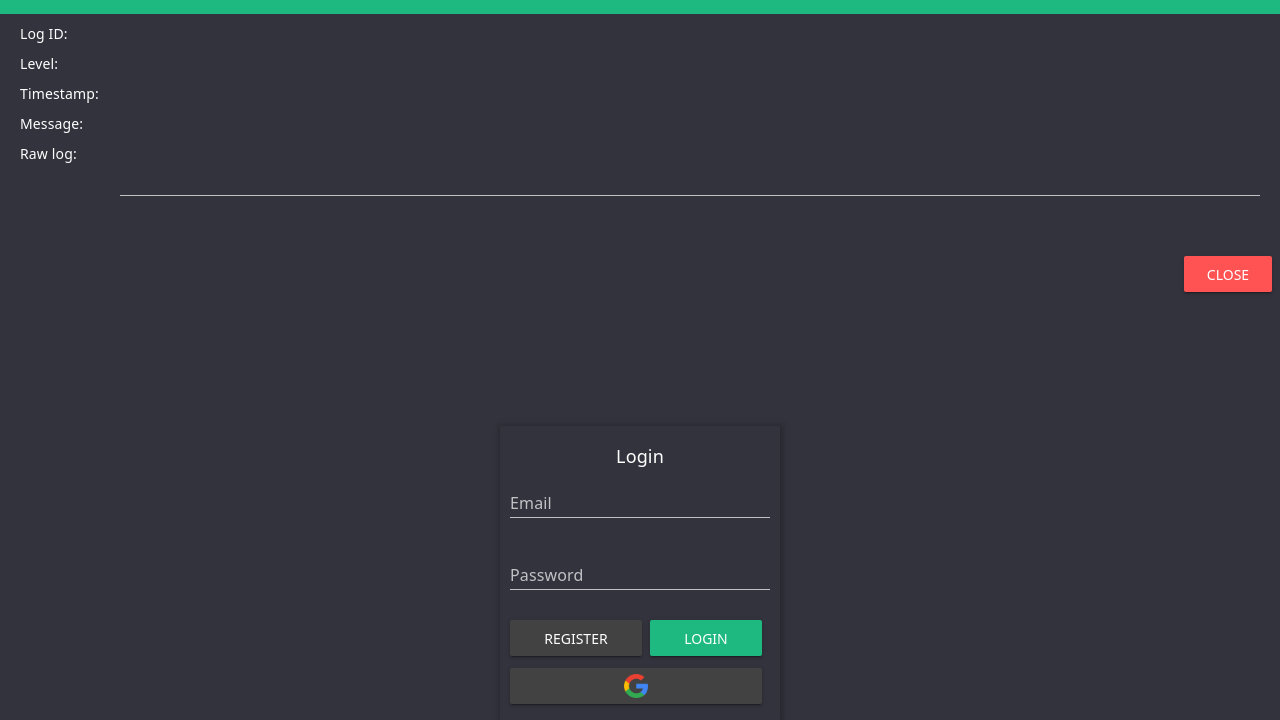
Test: Login tests › should show error when failed
The image size is (1280, 720).
(page scrolled)
Type "e2e-test@email.com" into the field with test id "email" at (640, 502), box [510,486,770,518]
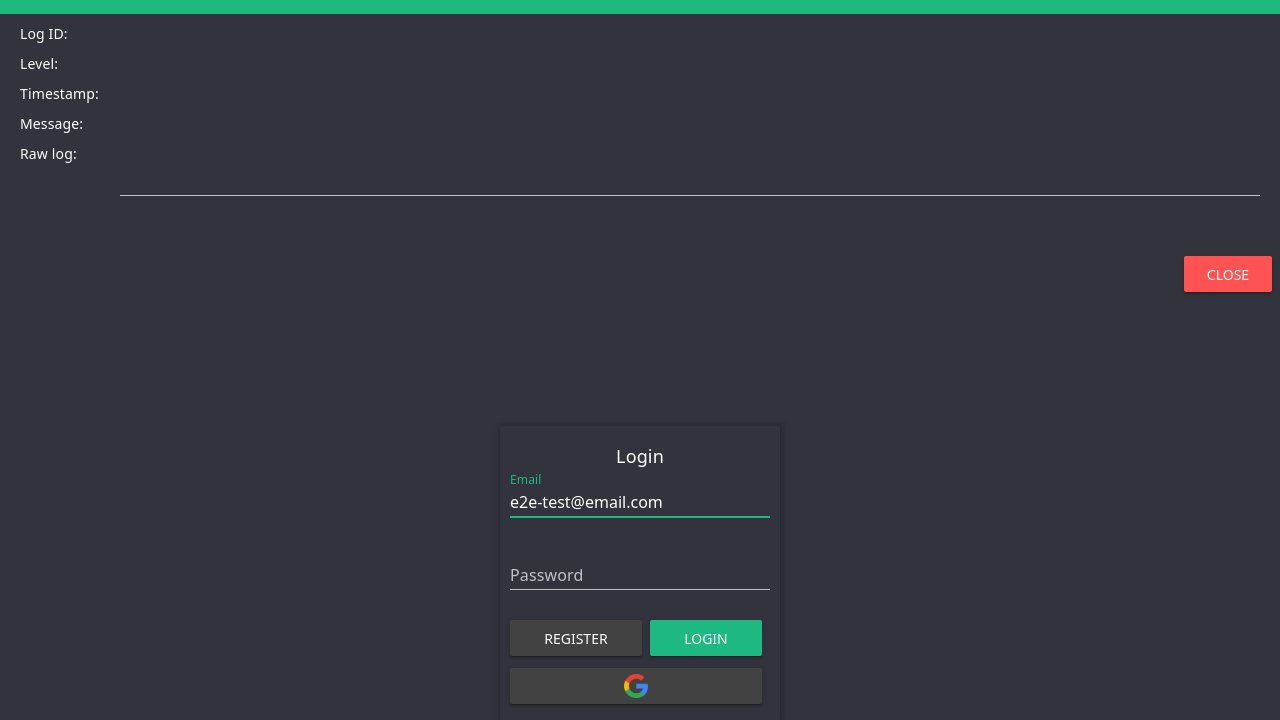
Type "E2EincorrectPassword" into the password field with test id "password" at (640, 574), box [510,558,770,590]
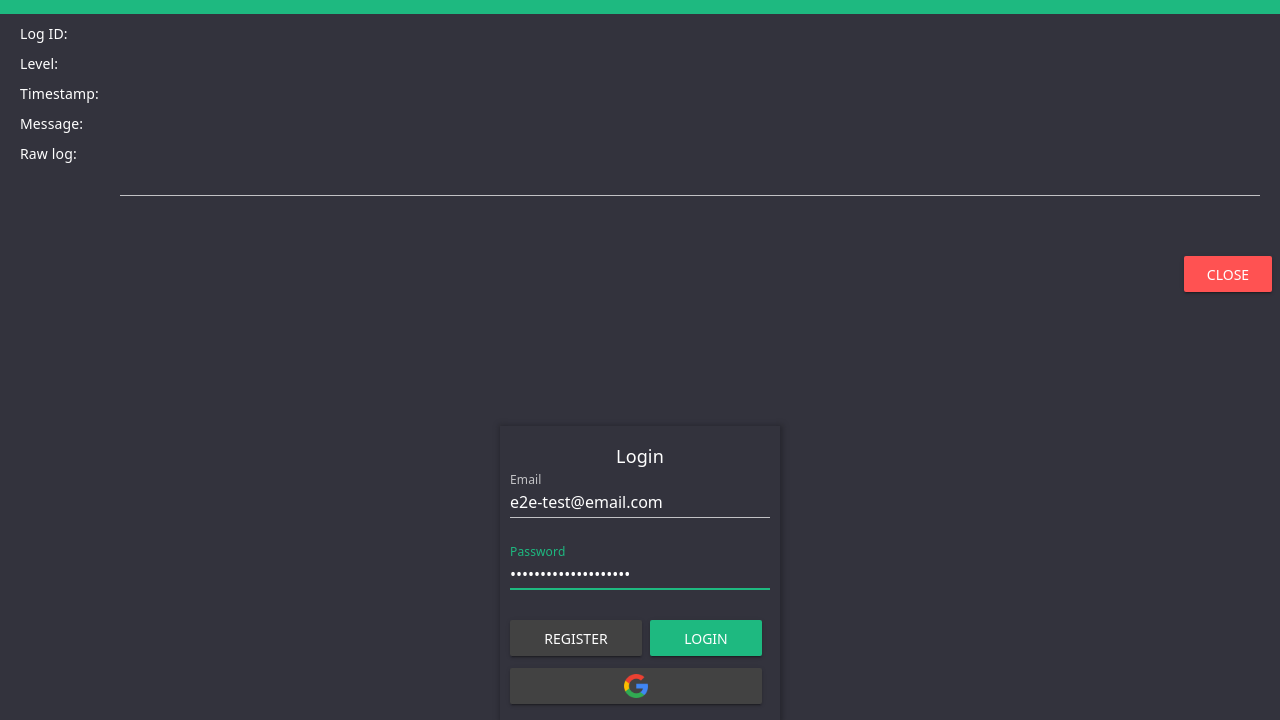
Click the button with test id "loginBtn" at (706, 638), box [650,620,762,656]
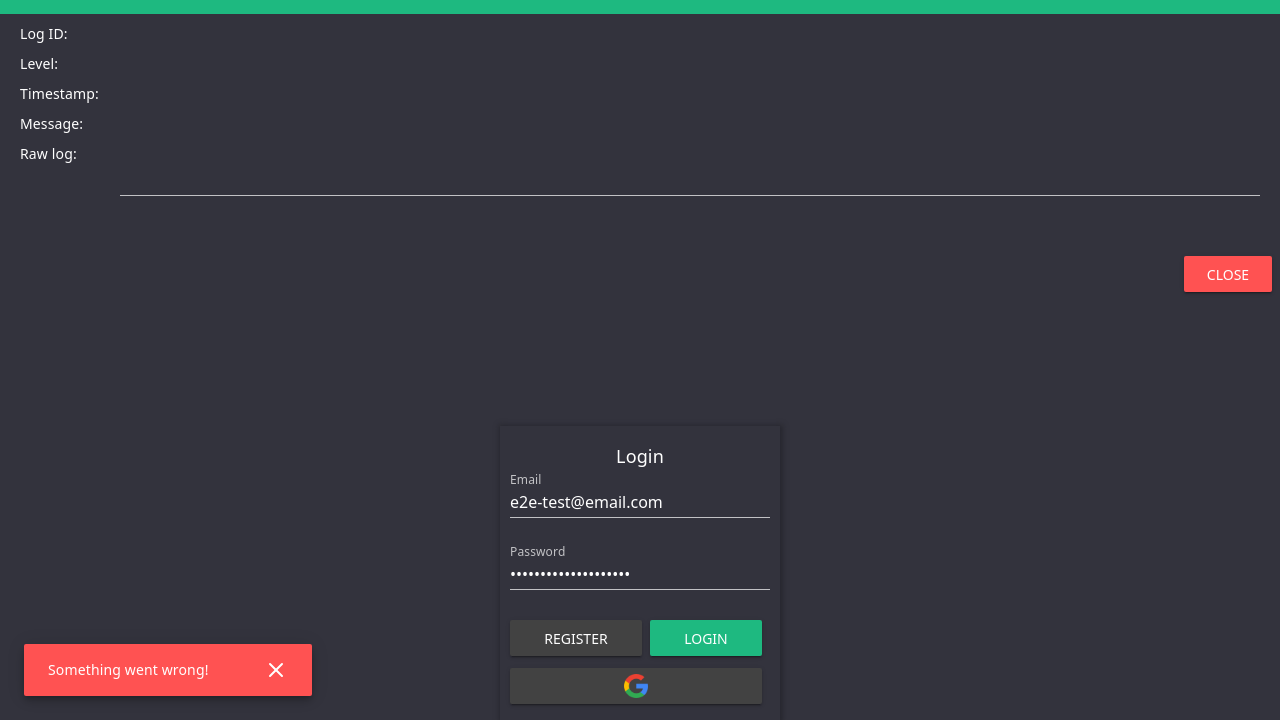
Now the element with test id "message" is shown, box [24,644,312,696]
